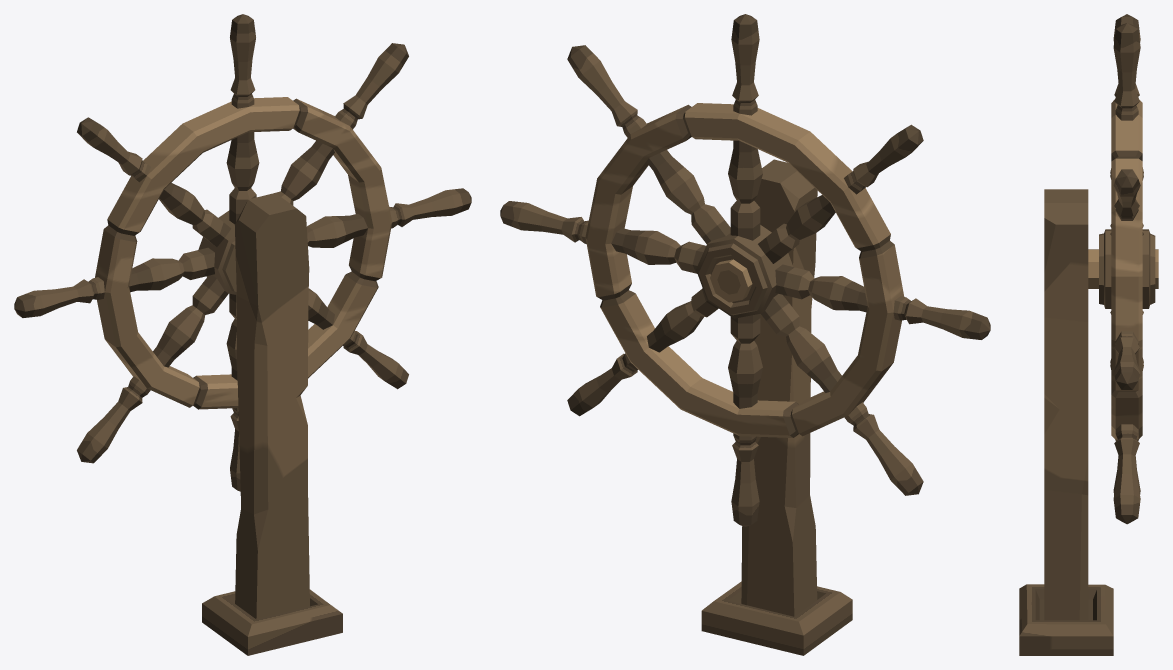
File: SM_Veh_Helm_01.fbx
3 views of the same model, side by side, from view 1: azimuth 30°, elevation 25°; view 2: azimuth 150°, elevation 25°; view 3: azimuth 270°, elevation 25° (orthographic). The views are drawn at different scales.
Visible parts, largest first — view 1: SM_Veh_Helm_01; view 2: SM_Veh_Helm_01; view 3: SM_Veh_Helm_01.
Part boxes in pixels (left/top/right/bottom): SM_Veh_Helm_01: left=14, top=14, right=471, bottom=655; SM_Veh_Helm_01: left=500, top=14, right=990, bottom=655; SM_Veh_Helm_01: left=1019, top=14, right=1158, bottom=655.
Size of the model in its own units: 134 by 165 by 34.37.
